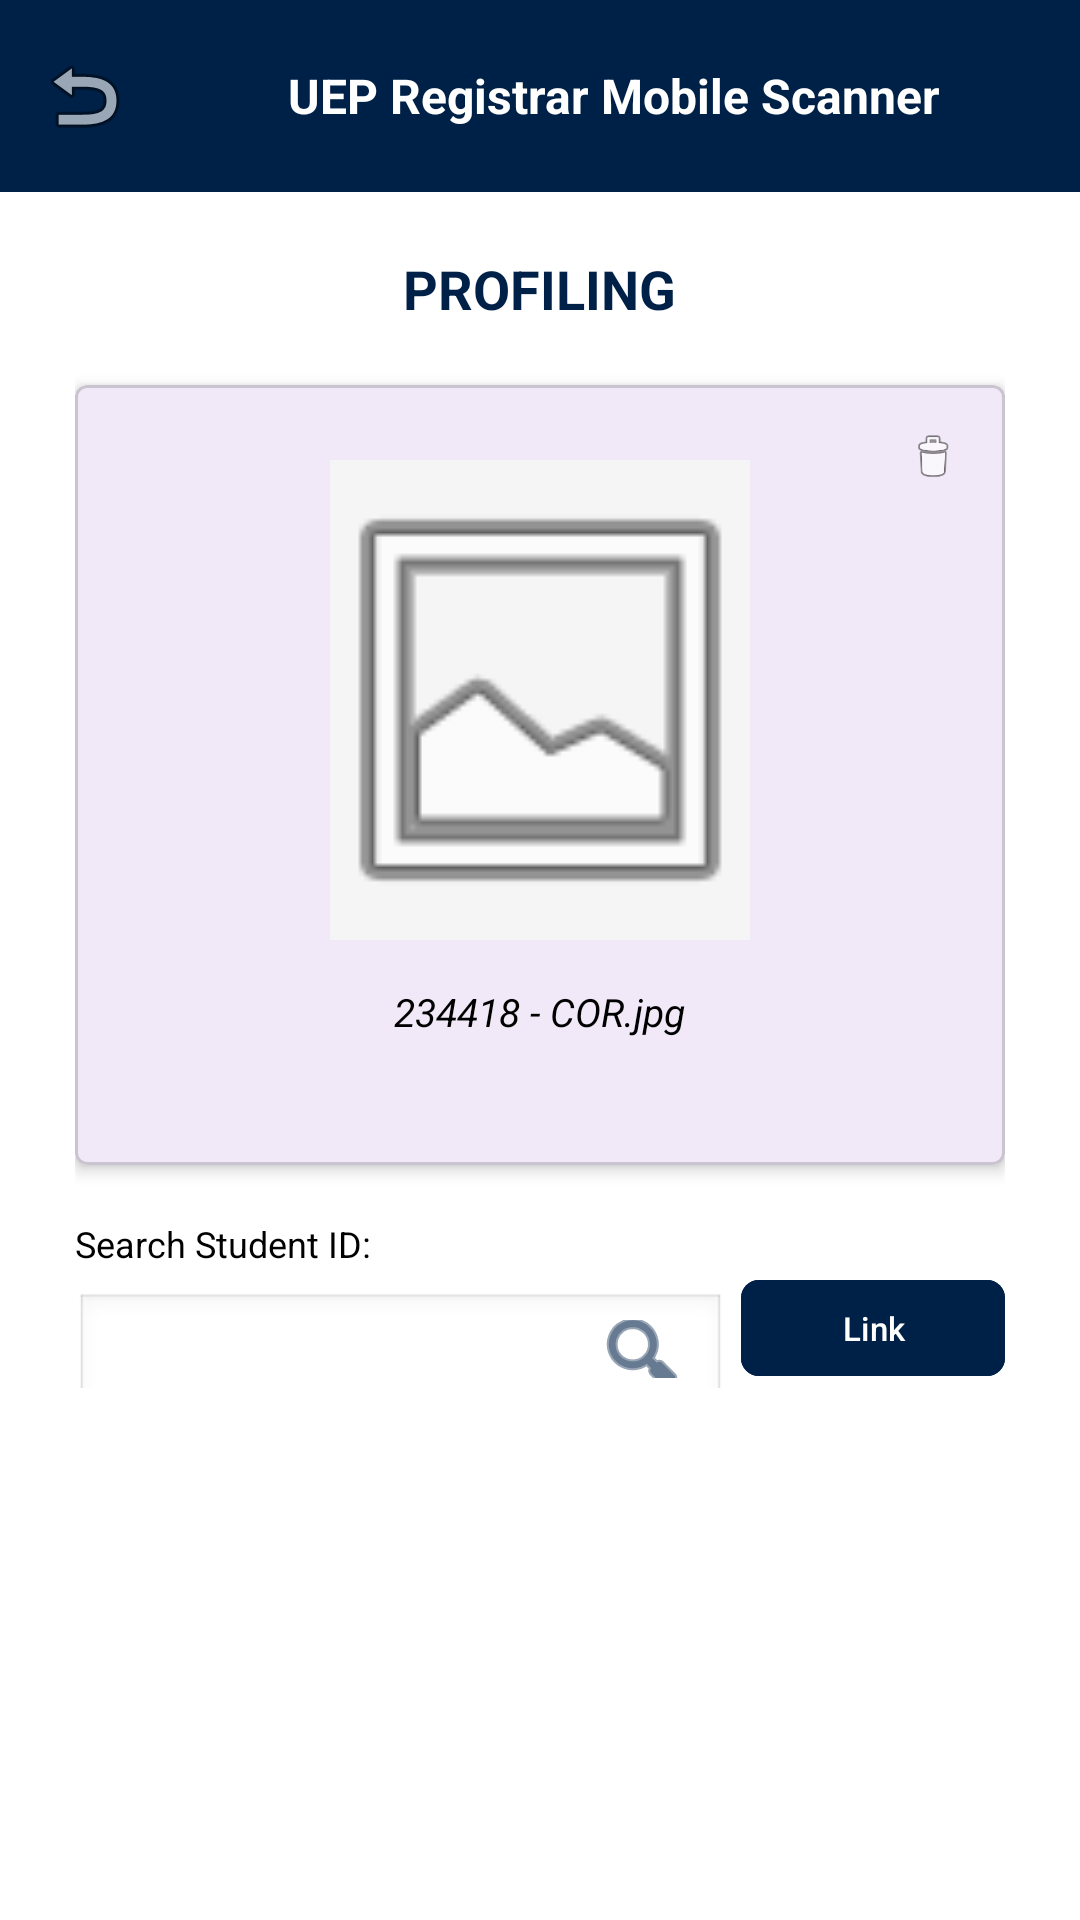

Point at icon controls on the screen. Image size 1080px x 1920px, points as (x=x, y=y).
delete: (x=933, y=456)
